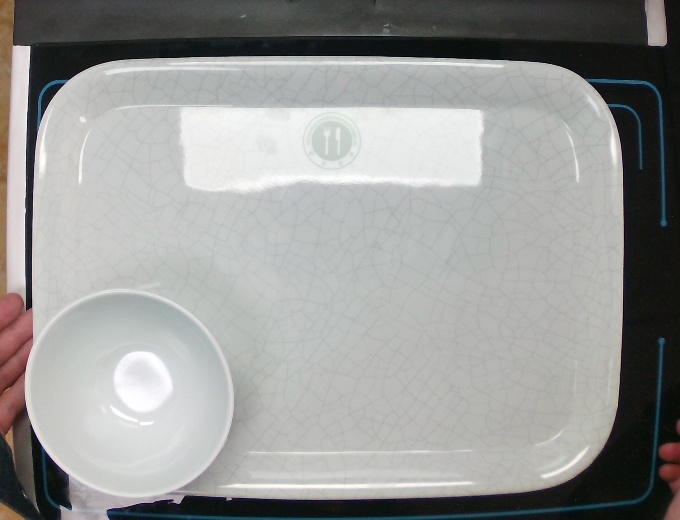JYsf-Fan_Wan: (19, 283, 241, 499)
